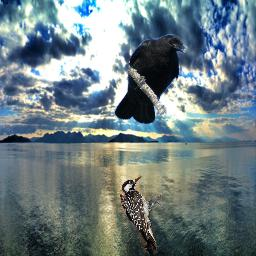Crow: (114, 34, 188, 125)
Woodpecker: (116, 173, 169, 255)
